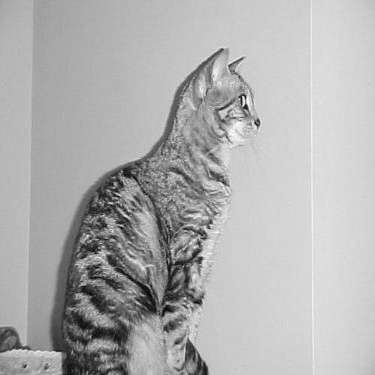cat: (4, 44, 260, 373)
